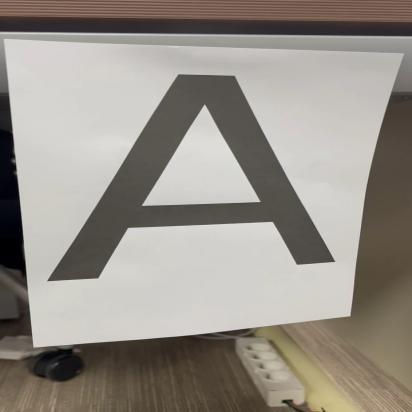seat: (32, 60, 347, 278)
